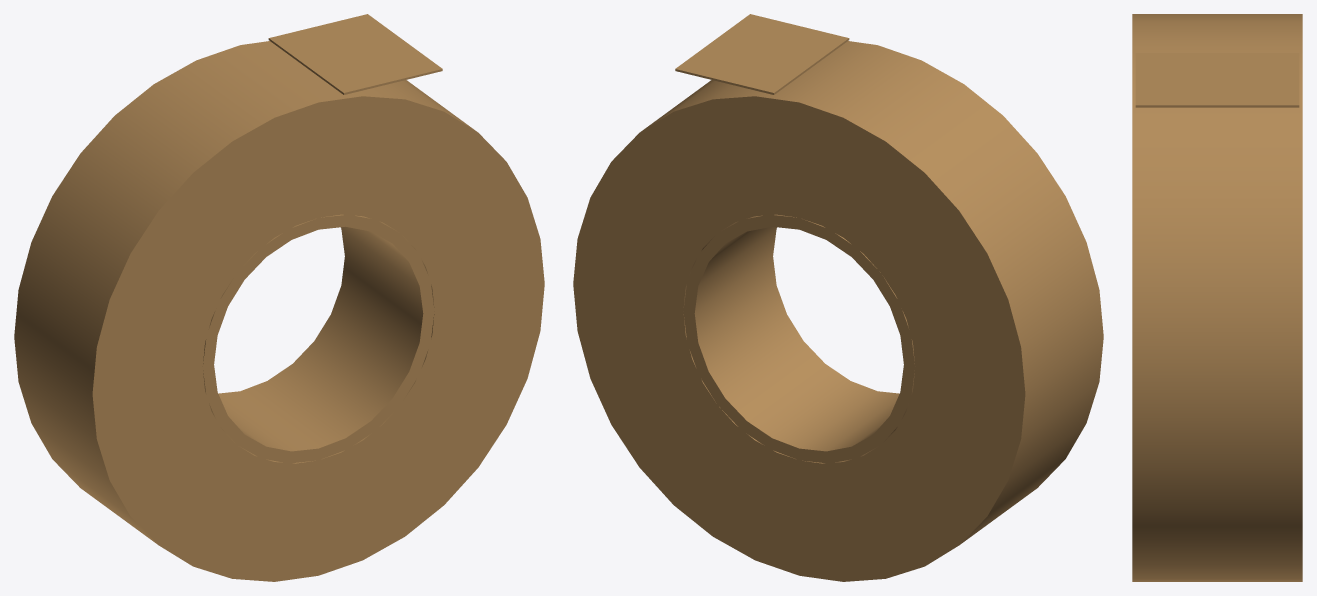
The model's file is sealing-tape.glb.
3 views of the same model, side by side, from view 1: azimuth 30°, elevation 25°; view 2: azimuth 150°, elevation 25°; view 3: azimuth 270°, elevation 25° (orthographic). The views are drawn at different scales.
Visible parts, largest first — view 1: WoundTape, HollowCardboardCore, TapeEndTab; view 2: WoundTape, HollowCardboardCore, TapeEndTab; view 3: WoundTape, TapeEndTab.
Boxes of the visible parts, bbox=[...] form: WoundTape: bbox=[14, 41, 544, 581]; HollowCardboardCore: bbox=[202, 214, 434, 463]; TapeEndTab: bbox=[268, 14, 442, 94]; WoundTape: bbox=[573, 41, 1103, 581]; HollowCardboardCore: bbox=[683, 214, 915, 463]; TapeEndTab: bbox=[675, 14, 849, 94]; WoundTape: bbox=[1132, 14, 1302, 581]; TapeEndTab: bbox=[1135, 53, 1299, 107].
Bounding box in the file's own units: 0.16 × 0.1605 × 0.048.
